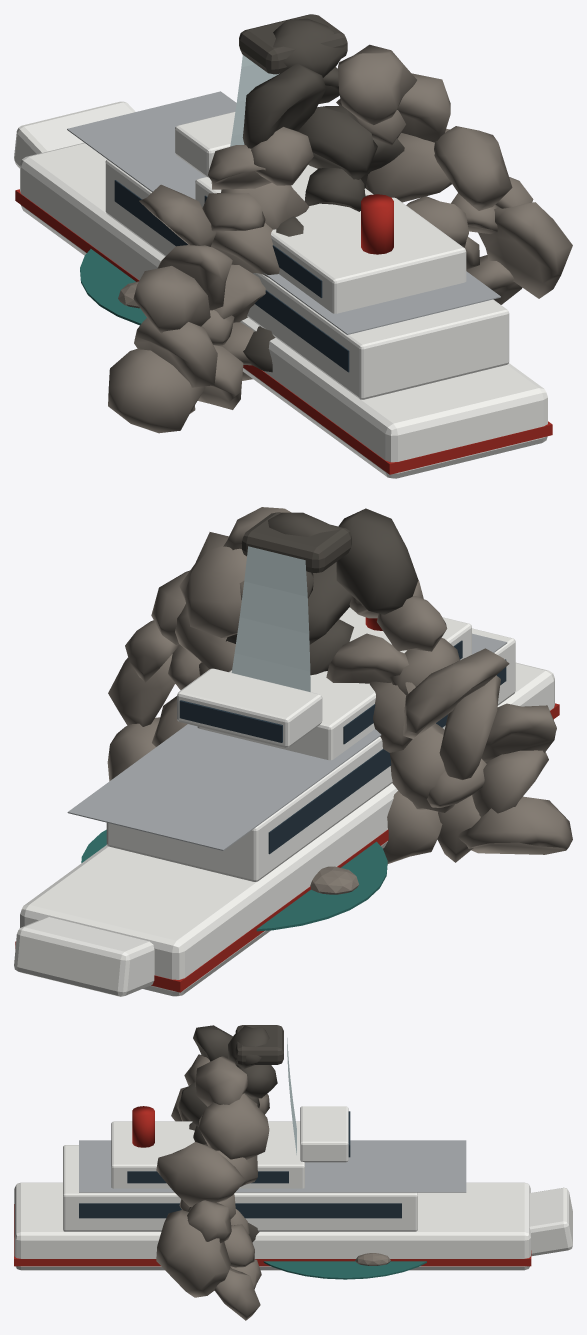
File: beach.glb
3 renders of one model, top to bottom at view 1: azimuth 30°, elevation 25°; view 2: azimuth 150°, elevation 25°; view 3: azimuth 270°, elevation 25°, orthographic. The views are drawn at different scales.
Visible parts, largest first — view 1: Ferry, WaterfallRocks, WaterfallWater; view 2: Ferry, WaterfallRocks, WaterfallWater; view 3: Ferry, WaterfallRocks.
Part boxes in pixels (bbox=[...]): Ferry: bbox=[14, 91, 552, 478]; WaterfallRocks: bbox=[80, 14, 572, 433]; WaterfallWater: bbox=[230, 55, 279, 146]; Ferry: bbox=[14, 607, 559, 996]; WaterfallRocks: bbox=[81, 507, 572, 931]; WaterfallWater: bbox=[231, 546, 310, 691]; Ferry: bbox=[14, 1106, 572, 1270]; WaterfallRocks: bbox=[156, 1025, 426, 1320].
Bounding box in the file's own units: 22.04 × 15.81 × 34.62.
